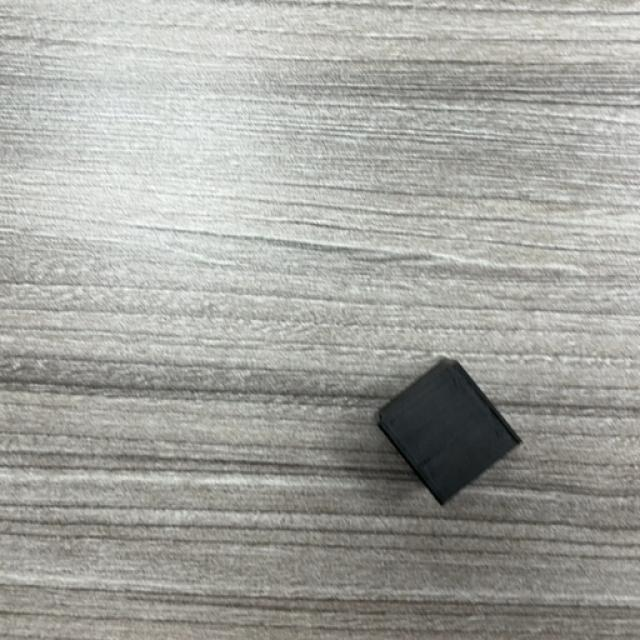Negro: (375, 359, 522, 506)
